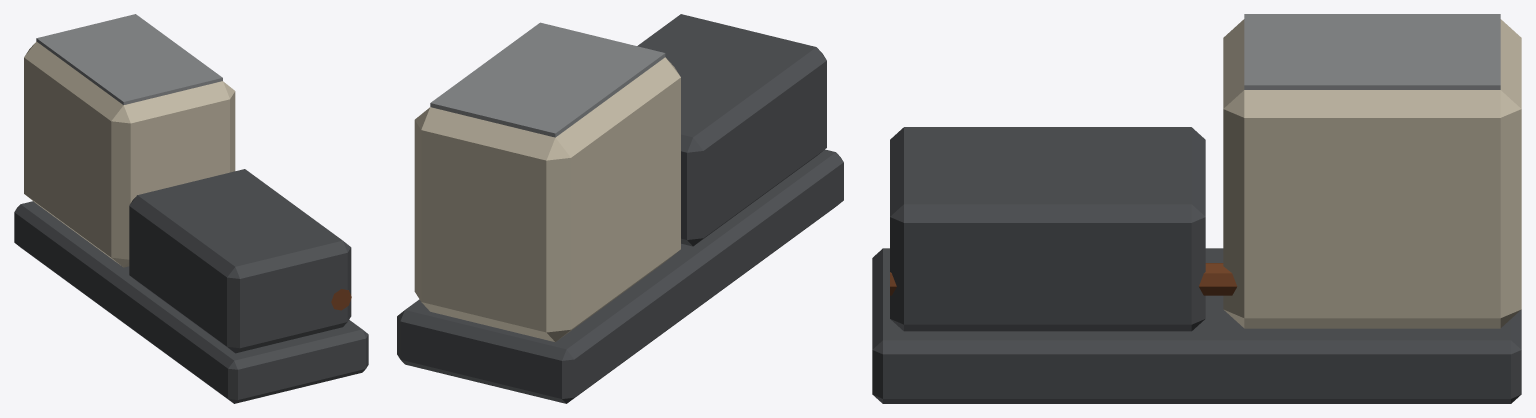
File: cargo-bay-inner-sw.glb
The picture shows the model from 3 angles, left to right: view 1: azimuth 30°, elevation 25°; view 2: azimuth 150°, elevation 25°; view 3: azimuth 270°, elevation 25°; orthographic projection. The views are drawn at different scales.
Visible parts, largest first — view 1: body; view 2: body; view 3: body.
Boxes of the visible parts, x1=… form: body: x1=14, y1=14, x2=368, y2=403; body: x1=397, y1=14, x2=843, y2=403; body: x1=872, y1=14, x2=1521, y2=403.
Size of the model in its own units: 0.68 by 0.965 by 1.85.
